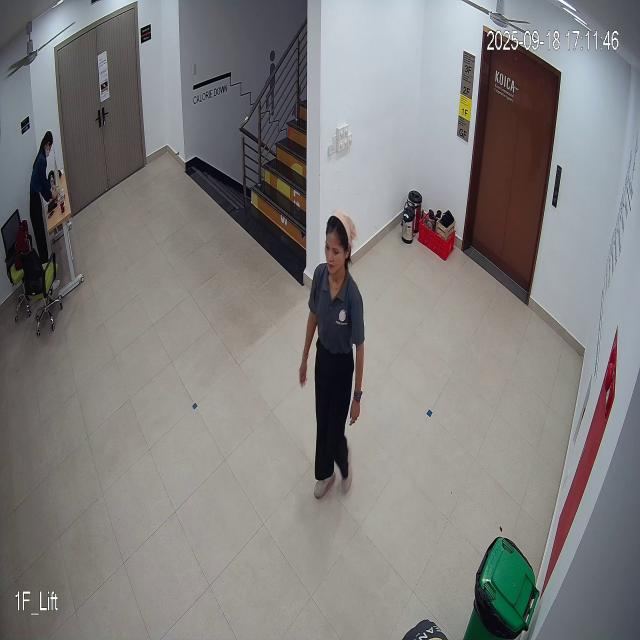face: (324, 208, 351, 274)
